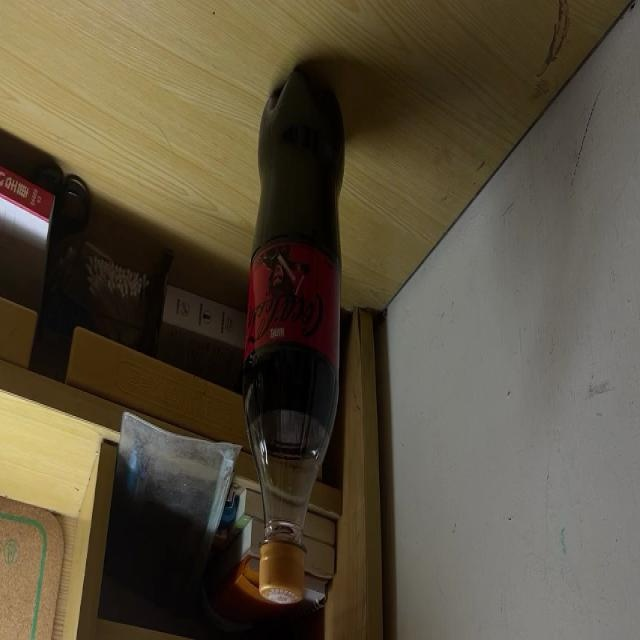Coca-Cola: (243, 65, 344, 605)
